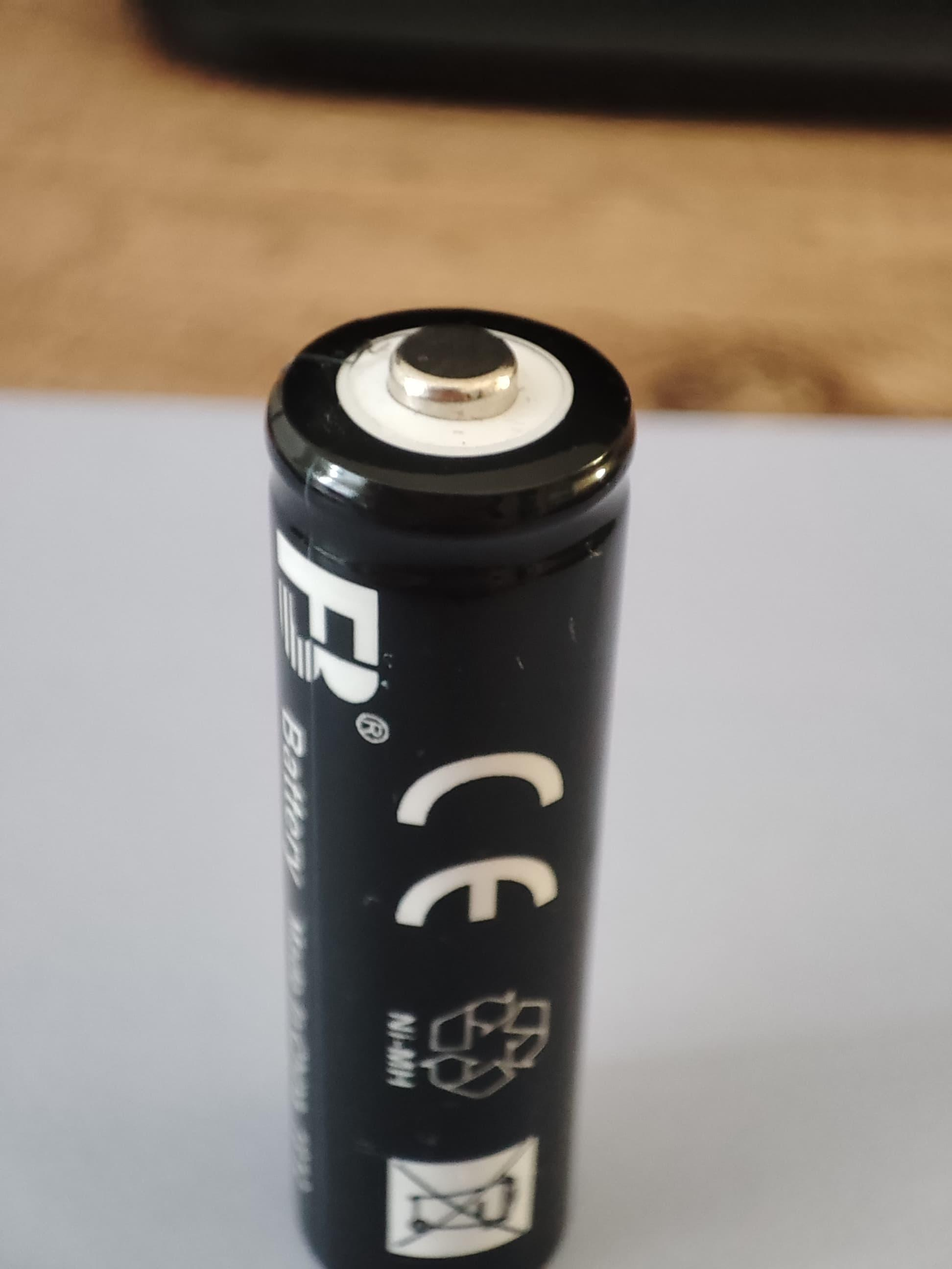AA: (263, 305, 637, 1267)
